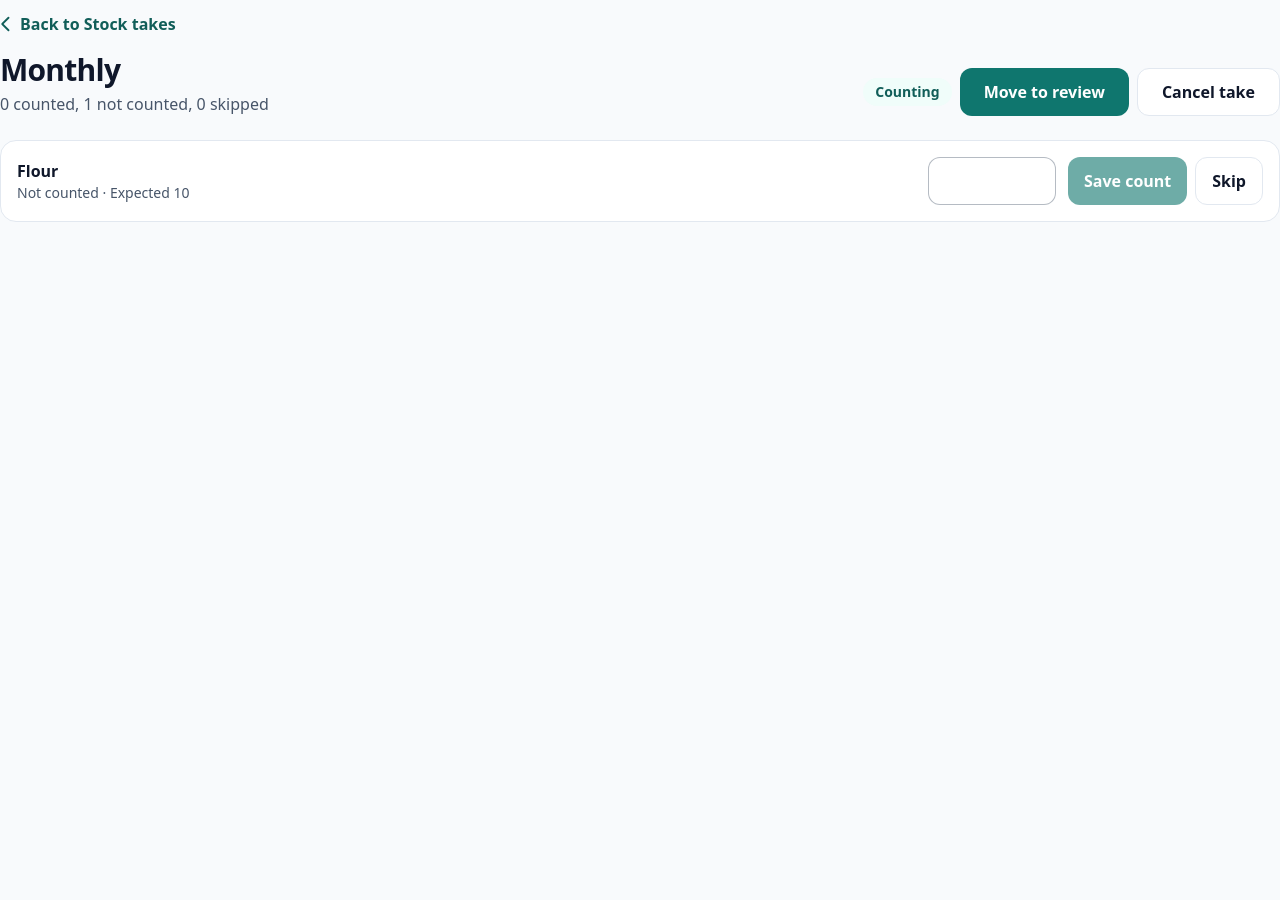
it: StockTakeDetailPage › asks before cancelling
The width and height of the screenshot is (1280, 900).
Click the button "Cancel take" at (1208, 92), box [1137,68,1279,116]
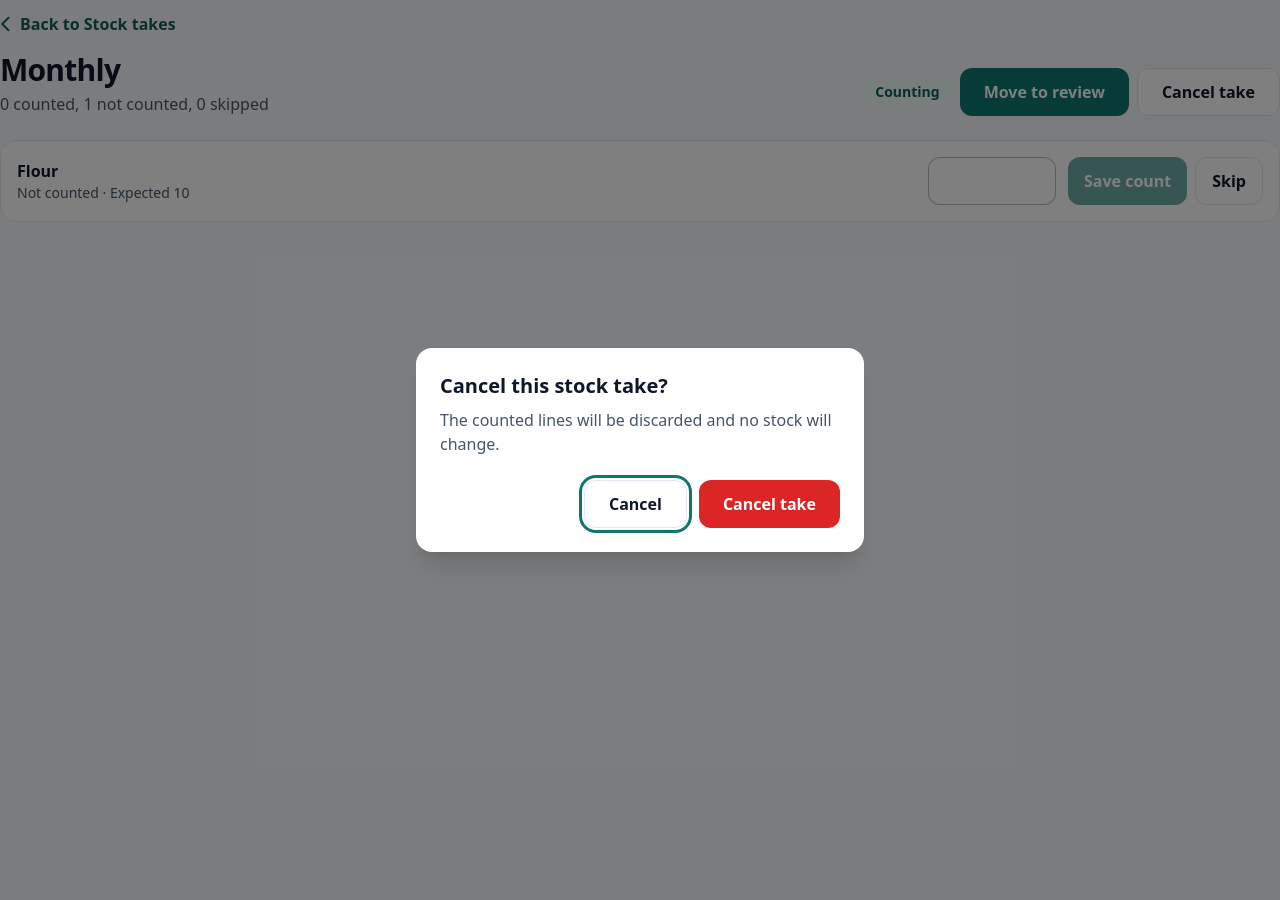
Check: the text "counted lines will be discarded" is shown, box [440,409,832,455]
